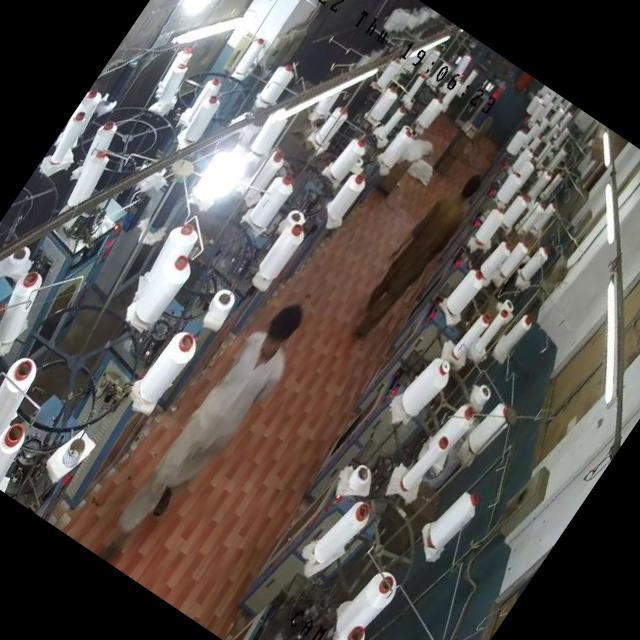person: (93, 282, 317, 580), (348, 161, 488, 348)
